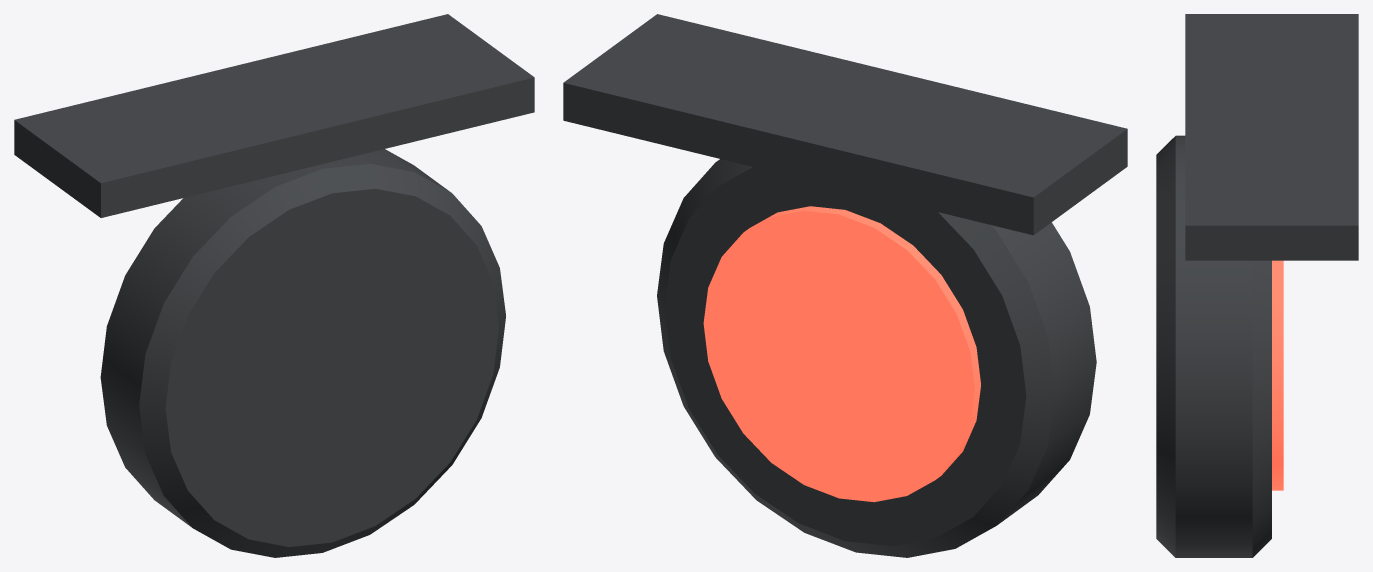
The model's file is spotter_eye.glb.
3 views of the same model, side by side, from view 1: azimuth 30°, elevation 25°; view 2: azimuth 150°, elevation 25°; view 3: azimuth 270°, elevation 25° (orthographic). The views are drawn at different scales.
Visible parts, largest first — view 1: spotter_eye; view 2: spotter_eye; view 3: spotter_eye.
Part boxes in pixels (<box>): spotter_eye: <box>14,14,534,557</box>; spotter_eye: <box>563,14,1127,557</box>; spotter_eye: <box>1156,14,1358,557</box>.
Size of the model in its own units: 0.26 by 0.24 by 0.105.
